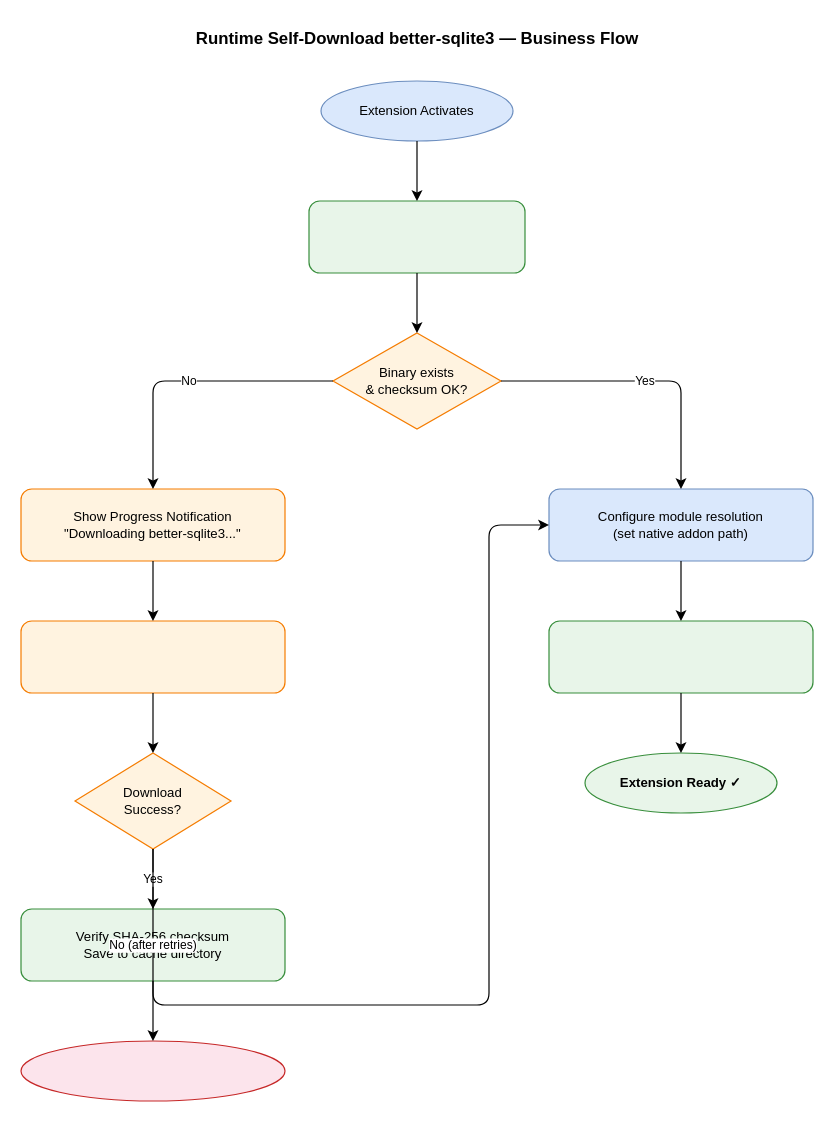
The diagram is 834 pixels wide and 1122 high, and some of its shapes have lost their labels. The box of each missing label's shape, as (x1, y1, x2, y2) in pixels:
Check globalStorageUri for cached binary: (308, 200, 525, 273)
Download .node from GitHub Releases: (20, 620, 285, 693)
Show Error Notification (MCP server not started): (20, 1040, 285, 1101)
Spawn MCP Server with SQLite support: (548, 620, 813, 693)
